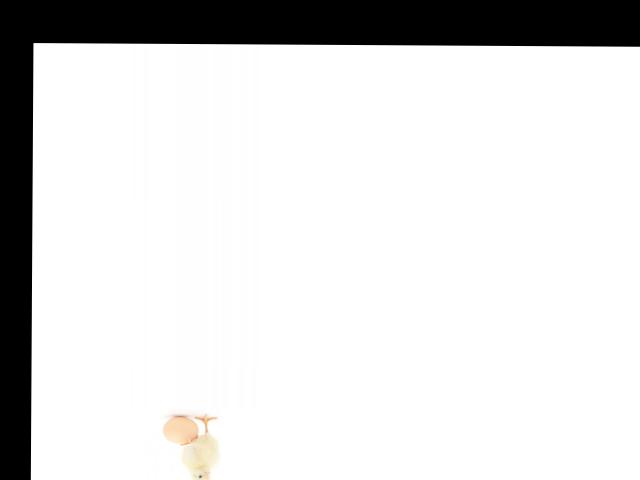egg: (162, 416, 199, 444)
